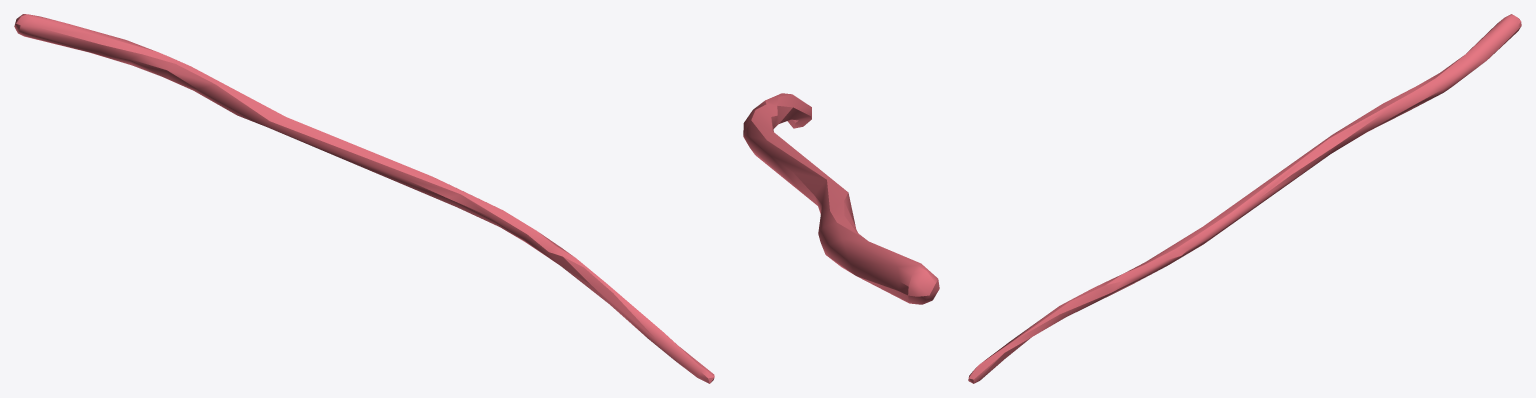
The model's file is fma14746_fj3623.glb.
3 views of the same model, side by side, from view 1: azimuth 30°, elevation 25°; view 2: azimuth 150°, elevation 25°; view 3: azimuth 270°, elevation 25° (orthographic). The views are drawn at different scales.
Visible parts, largest first — view 1: FMA14746_FJ3623; view 2: FMA14746_FJ3623; view 3: FMA14746_FJ3623.
Boxes of the visible parts, x1,y1,x2,y2 form: FMA14746_FJ3623: [14, 14, 714, 383]; FMA14746_FJ3623: [743, 93, 939, 304]; FMA14746_FJ3623: [968, 14, 1521, 383].
Bounding box in the file's own units: 0.031 × 0.0177 × 0.0432.
